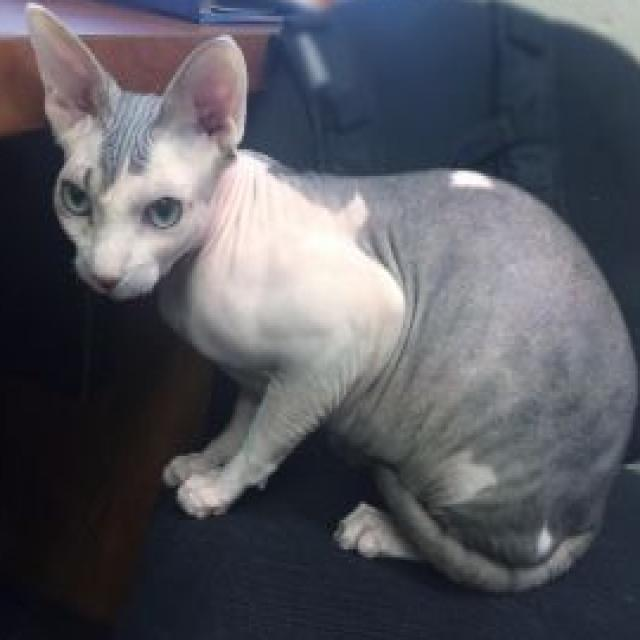Sphynx: (21, 2, 640, 596)
